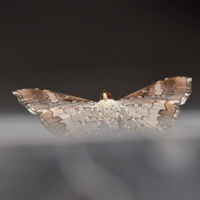insect: (12, 76, 191, 136)
